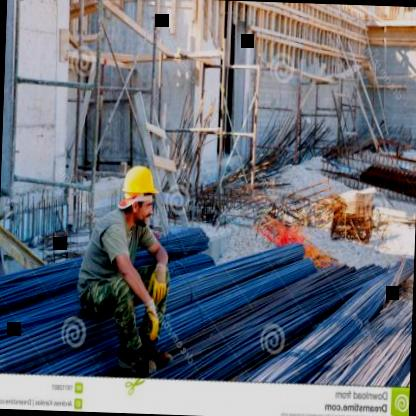helmet: (118, 162, 160, 233)
